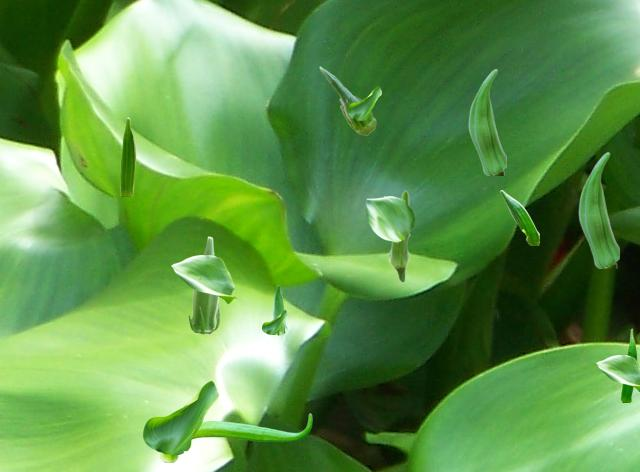okra: (160, 413, 311, 461), (578, 151, 618, 267), (468, 68, 505, 174), (319, 66, 375, 134), (188, 236, 219, 333), (500, 190, 538, 244), (388, 190, 409, 282), (120, 117, 135, 195), (620, 328, 636, 401), (272, 285, 286, 334)
